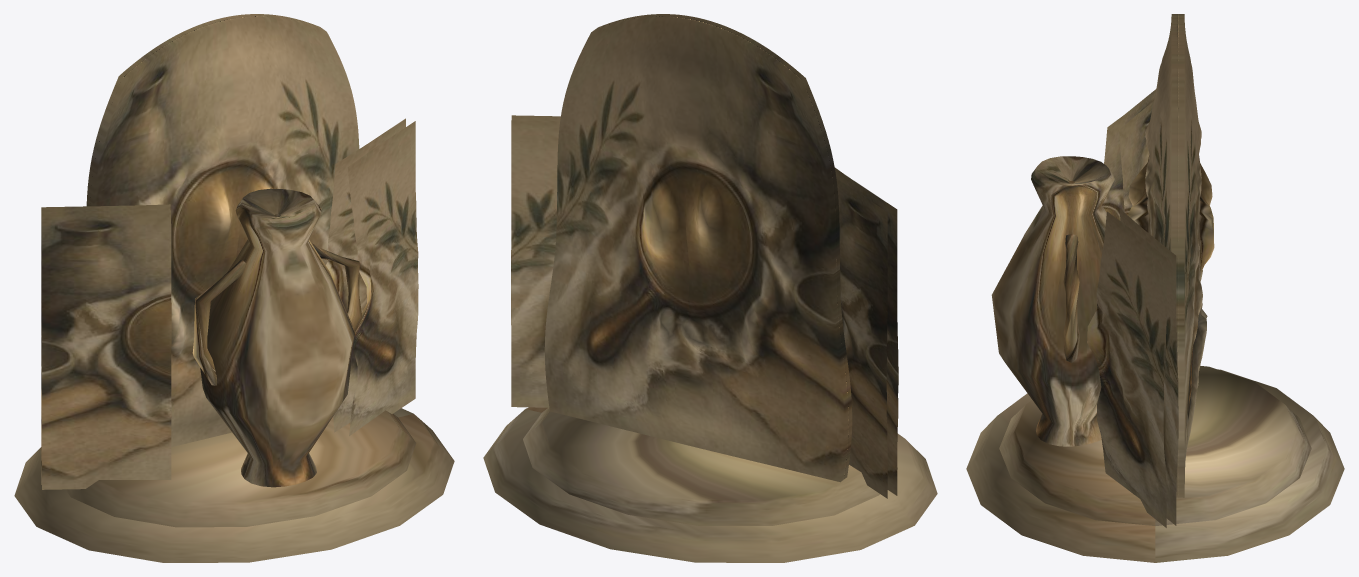
The model's file is treasure-in-clay-jars-18.glb.
The picture shows the model from 3 angles, left to right: view 1: azimuth 30°, elevation 25°; view 2: azimuth 150°, elevation 25°; view 3: azimuth 270°, elevation 25°; orthographic projection. The views are drawn at different scales.
Visible parts, largest first — view 1: PaintingSculptureMonument; view 2: PaintingSculptureMonument; view 3: PaintingSculptureMonument.
Boxes of the visible parts, box(x1,y1,x2,y2) form: PaintingSculptureMonument: box(14, 14, 454, 562); PaintingSculptureMonument: box(483, 14, 937, 562); PaintingSculptureMonument: box(966, 14, 1344, 562).
Bounding box in the file's own units: 2.76 × 2.99 × 2.35.
1 material, 1 textured.
